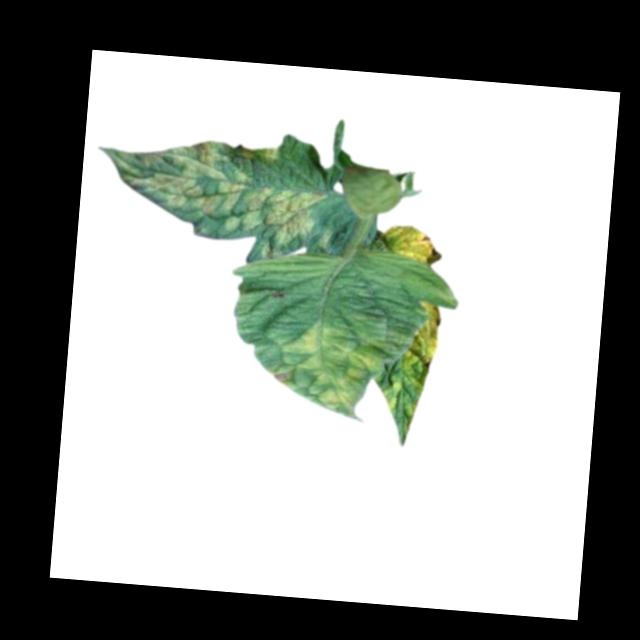Leaf_Mold: (90, 129, 321, 260), (270, 320, 385, 419), (403, 297, 444, 371), (379, 224, 443, 267)
